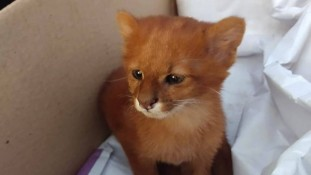Jaguarundi: (94, 6, 253, 169)
